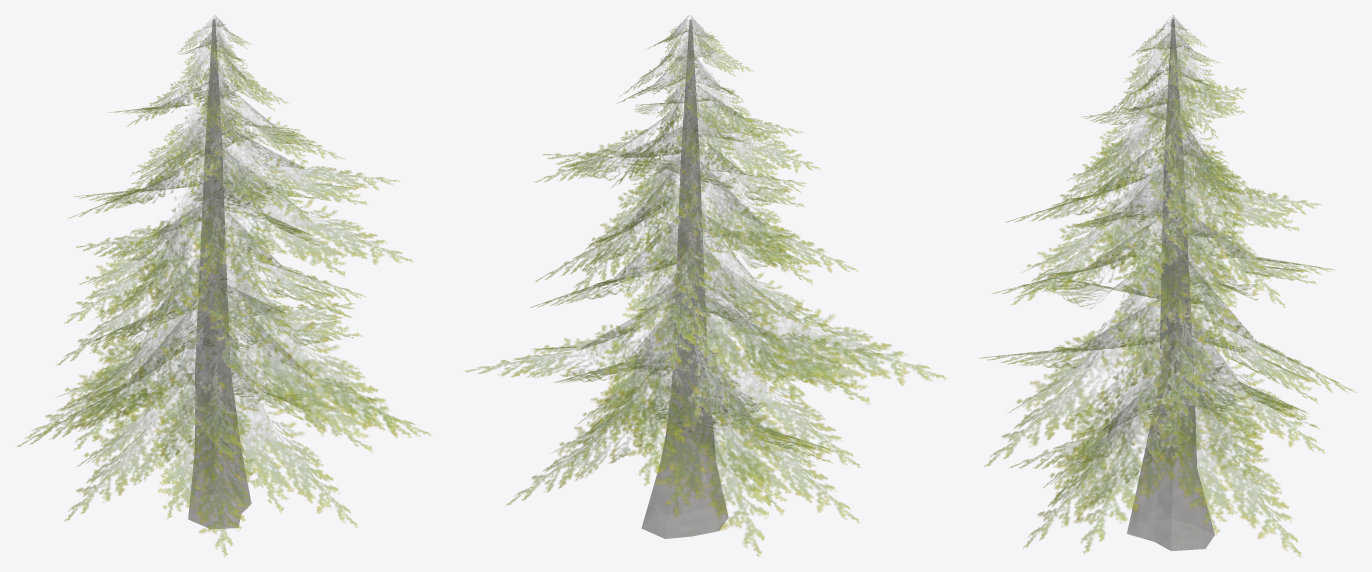
The model's file is Pine_Tree_-_PS1_Low_Poly.glb.
3 renders of one model, left to right at view 1: azimuth 30°, elevation 25°; view 2: azimuth 150°, elevation 25°; view 3: azimuth 270°, elevation 25°, orthographic. The views are drawn at different scales.
Parts seen in each view (by area): view 1: Plane.037_Tree_tex_0; view 2: Plane.037_Tree_tex_0; view 3: Plane.037_Tree_tex_0.
Boxes of the visible parts, x1,y1,x2,y2 form: Plane.037_Tree_tex_0: [18, 15, 431, 556]; Plane.037_Tree_tex_0: [465, 16, 946, 556]; Plane.037_Tree_tex_0: [980, 15, 1355, 556].
Size of the model in its own units: 9.4 by 11.84 by 7.87.
Materials: 1 (1 with a texture image).
